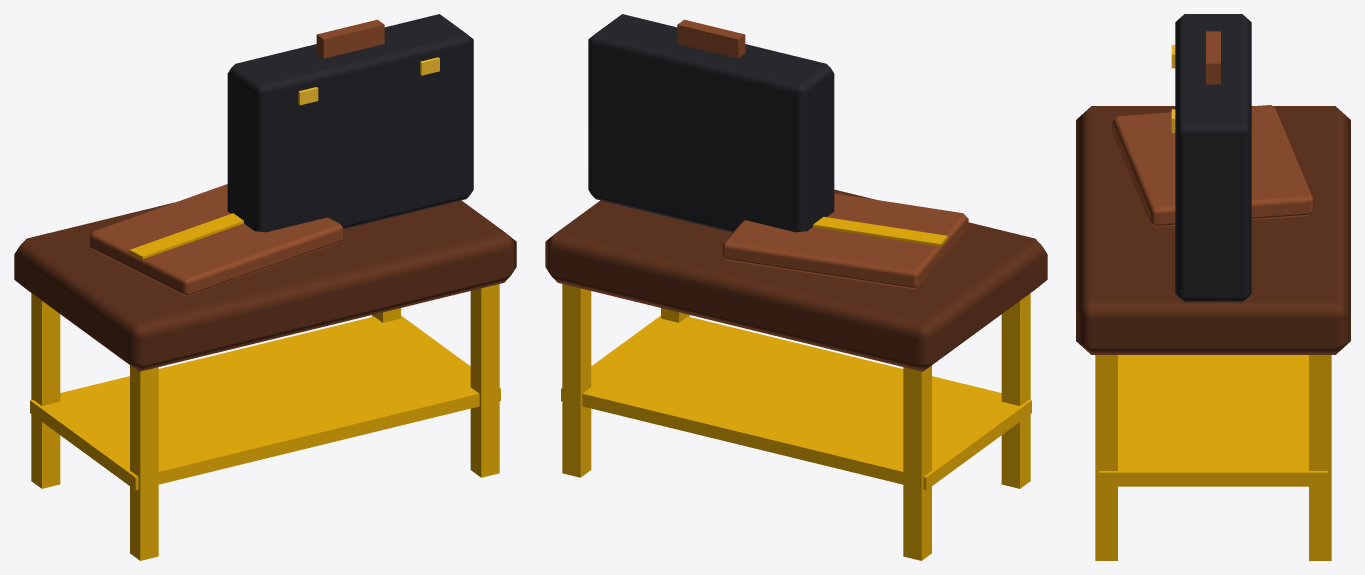
Rendered from station_processing_ausstattung_2_1.glb.
3 renders of one model, left to right at view 1: azimuth 30°, elevation 25°; view 2: azimuth 150°, elevation 25°; view 3: azimuth 270°, elevation 25°, orthographic. The views are drawn at different scales.
Visible parts, largest first — view 1: station_processing_ausstattung_2_1; view 2: station_processing_ausstattung_2_1; view 3: station_processing_ausstattung_2_1.
Boxes of the visible parts, box(x1,y1,x2,y2) form: station_processing_ausstattung_2_1: box(14, 14, 516, 560); station_processing_ausstattung_2_1: box(545, 14, 1047, 560); station_processing_ausstattung_2_1: box(1076, 14, 1350, 560).
Bounding box in the file's own units: 0.64 × 0.67 × 0.36.
